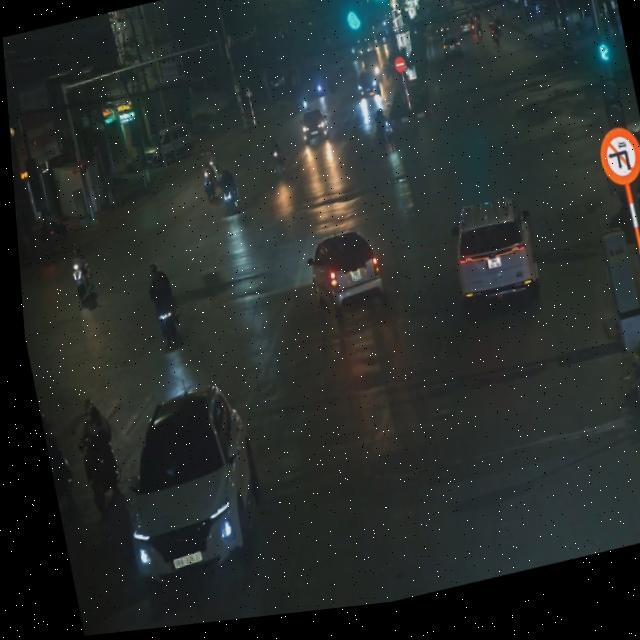Green: (333, 0, 366, 44)
